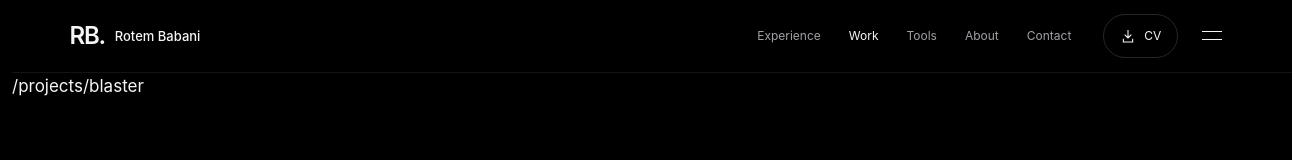
Scenario: homepage section navigation › returns from an interior page to work through primary navigation
(page scrolled)
Click the link "Work": {"x": 864, "y": 35} [849,28,878,43]
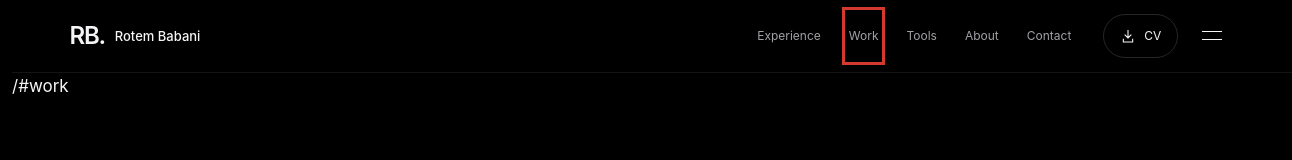
Now the text with test id "location" reads "/#work", box [12,76,69,96]
